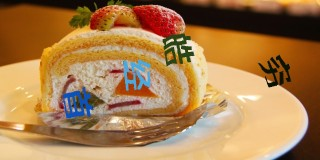皓: (162, 32, 195, 66)
穷: (258, 55, 293, 88)
经: (122, 59, 151, 91)
首: (62, 87, 92, 119)
